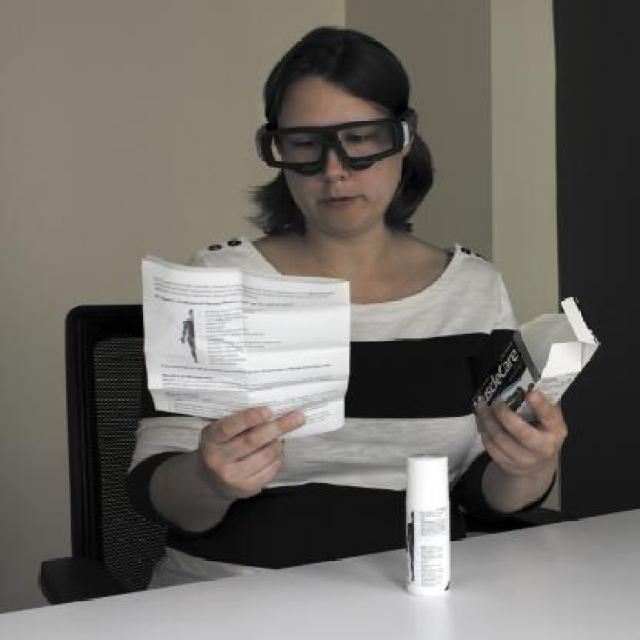sem_oculos: (235, 120, 443, 168)
